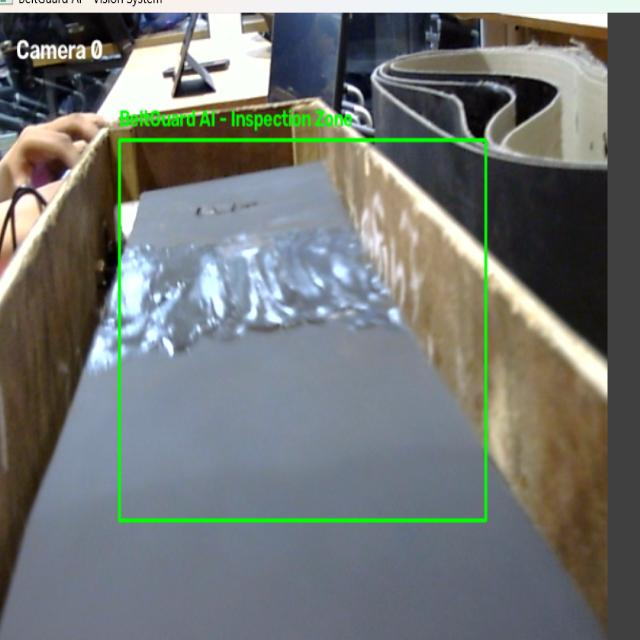Joint_Damage: (120, 232, 399, 355)
crack: (195, 199, 269, 219)
